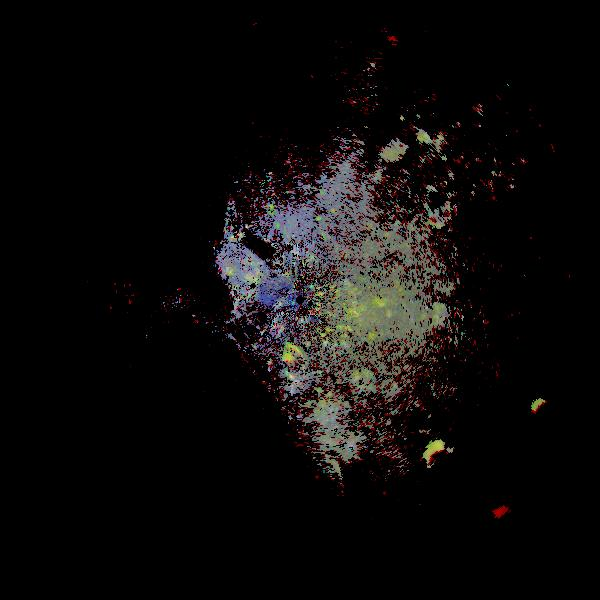roost: (518, 384, 593, 459), (417, 429, 483, 495), (483, 493, 549, 559), (273, 343, 324, 394), (327, 284, 378, 335)
